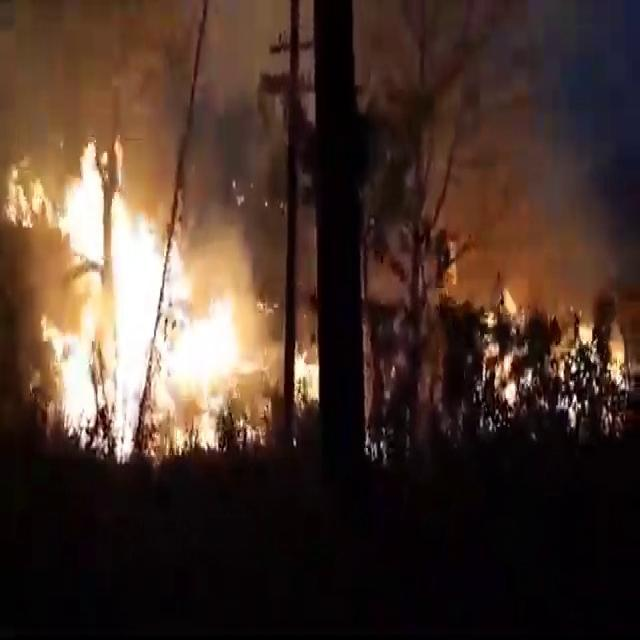Fire: (7, 148, 259, 450), (478, 288, 536, 414), (294, 341, 322, 412), (608, 322, 634, 398)
Smoke: (7, 11, 314, 168), (464, 36, 619, 272)
